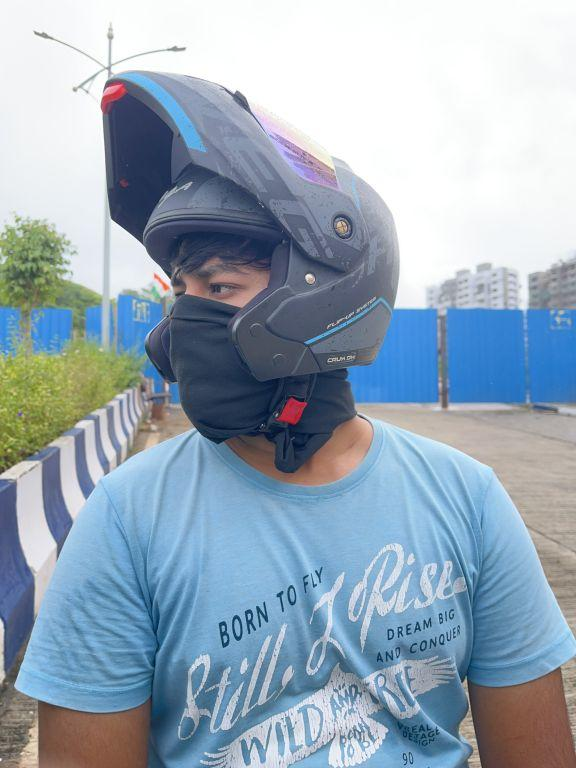helmet: (92, 54, 406, 446)
